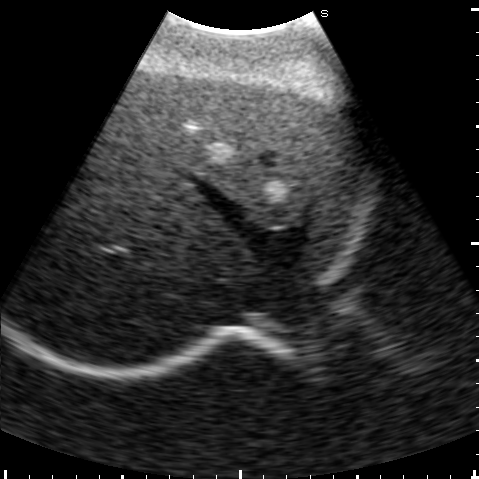S2: (305, 123, 359, 267)
S4: (134, 71, 331, 227)
S7: (53, 247, 190, 361)
S8: (86, 131, 255, 281)
Tumor: (262, 179, 286, 201), (208, 141, 232, 161), (184, 120, 196, 133)
